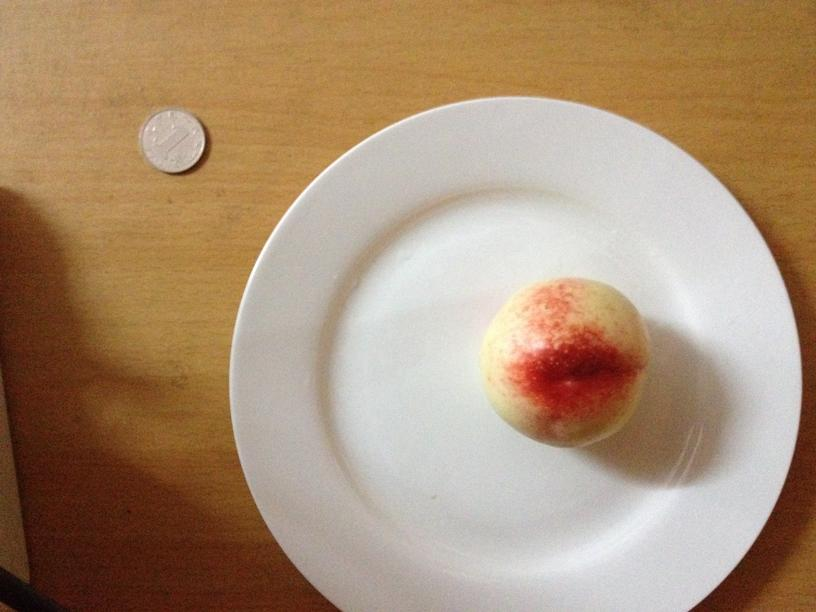coin: (141, 106, 206, 173)
peach: (480, 274, 650, 450)
